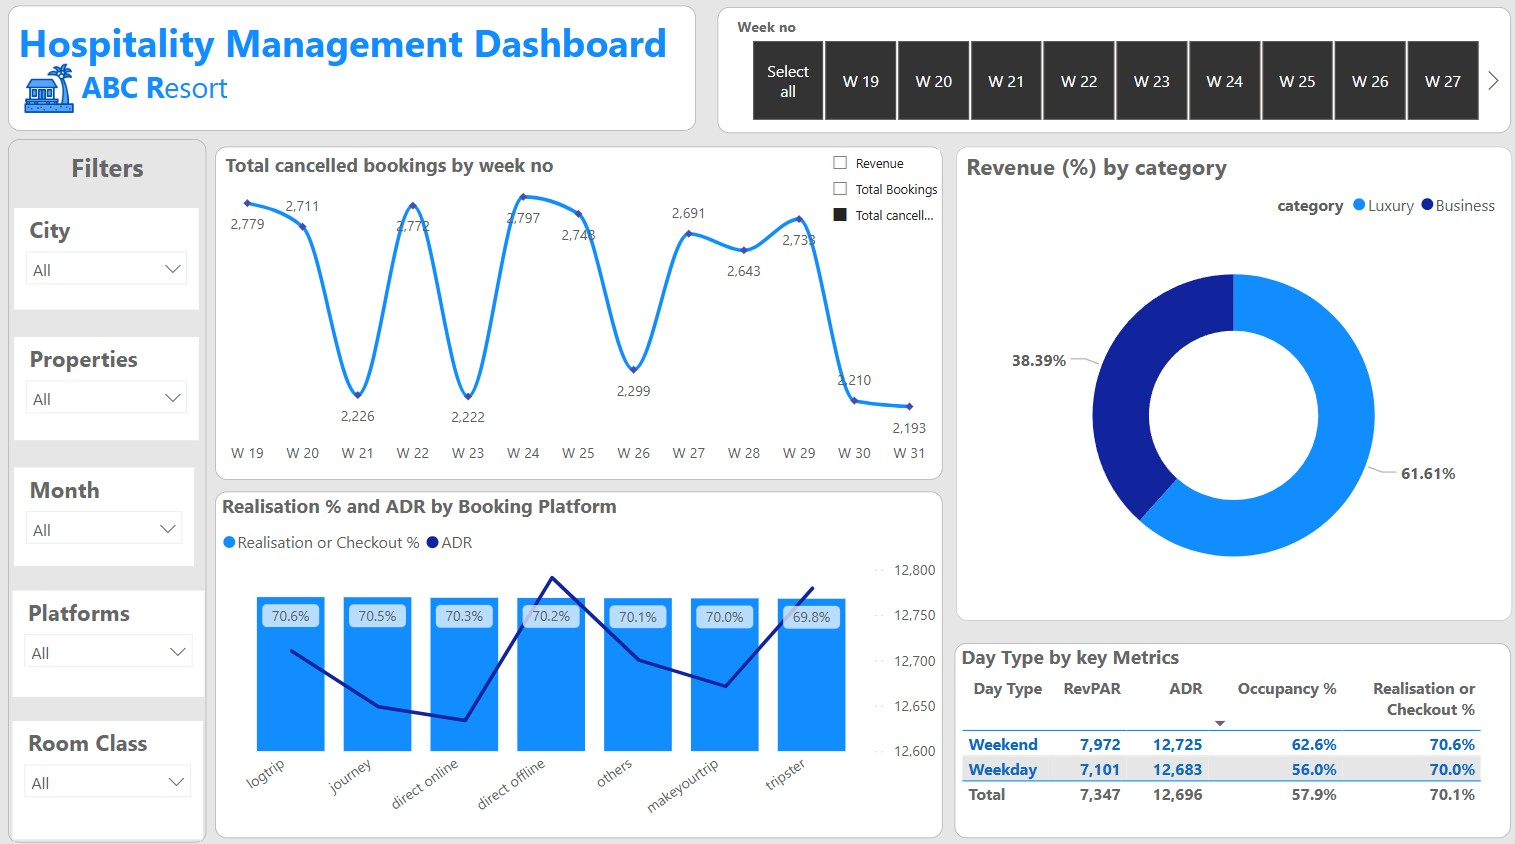

The dashboard page shown, as its layout file describes it:
{"tool":"powerbi","page":{"name":"Page 2","canvas":[1280,720],"ordinal":1},"visuals":[{"type":"textbox","box":[7.9,9.5,578.1,105.5],"z":0},{"type":"image","box":[10,51.4,64.3,52.9],"z":1000},{"type":"textbox","box":[7.9,121.3,167,592.2],"z":2000},{"type":"slicer","fields":{"Values":["dim_hotel.city"]},"box":[12.4,179.1,155.7,85.4],"z":3000},{"type":"slicer","fields":{"Values":["dim_hotel.property_name"]},"box":[12.4,287.9,155.7,86.8],"z":4000},{"type":"slicer","fields":{"Values":["dim_date.Month Name"]},"box":[12.4,396.7,151.5,82.7],"z":5000},{"type":"slicer","fields":{"Values":["fact_booking.booking_platform"]},"box":[11,500.1,161.2,89.5],"z":6000},{"type":"slicer","fields":{"Values":["dim_room.room_class"]},"box":[11,610.3,159.8,99.2],"z":7000},{"type":"slicer","title":"Week No","fields":{"Values":["dim_date.week no"]},"box":[603.4,9.6,666.7,106.1],"z":8000},{"type":"donutChart","title":"Revenue (%) by category","fields":{"Category":["dim_hotel.category"],"Y":["_Measures.Revenue"]},"box":[804.3,127.1,467.1,398.6],"z":9000},{"type":"tableEx","title":"Day Type by key Metrics","fields":{"Values":["dim_date.day_type","_Measures.RevPAR","_Measures.ADR","_Measures.Occupancy %","_Measures.Realisation or Checkout %"]},"box":[802.9,544.3,467.1,164.3],"z":10000},{"type":"lineStackedColumnComboChart","title":"Realisation % and ADR by Booking Platform","fields":{"Category":["fact_booking.booking_platform"],"Y":["_Measures.Realisation or Checkout %"],"Y2":["_Measures.ADR"]},"box":[181.4,417.1,611.4,291.4],"z":11000},{"type":"lineChart","fields":{"Y":["_Measures.Total cancelled bookings"],"Category":["dim_date.week no"]},"box":[181.4,127.1,611.4,280],"z":12000},{"type":"slicer","fields":{"Values":["Parameter.Parameter"]},"box":[692.9,130,97.1,68.6],"z":13000}]}

Visuals, with their boxes in screenshot pixels (x1, y1, x2, y2), scaled from the page's 1280x720 canvas onto the 1515x844 screenshot:
textbox: bbox=[9, 11, 694, 135]
image: bbox=[12, 60, 88, 122]
textbox: bbox=[9, 142, 207, 836]
slicer - dim_hotel.city: bbox=[15, 210, 199, 310]
slicer - dim_hotel.property_name: bbox=[15, 337, 199, 439]
slicer - dim_date.Month Name: bbox=[15, 465, 194, 562]
slicer - fact_booking.booking_platform: bbox=[13, 586, 204, 691]
slicer - dim_room.room_class: bbox=[13, 715, 202, 832]
"Week No" slicer: bbox=[714, 11, 1503, 136]
"Revenue (%) by category" donutChart: bbox=[952, 149, 1505, 616]
"Day Type by key Metrics" tableEx: bbox=[950, 638, 1503, 831]
"Realisation % and ADR by Booking Platform" lineStackedColumnComboChart: bbox=[215, 489, 938, 831]
lineChart - _Measures.Total cancelled bookings x dim_date.week no: bbox=[215, 149, 938, 477]
slicer - Parameter.Parameter: bbox=[820, 152, 935, 233]
